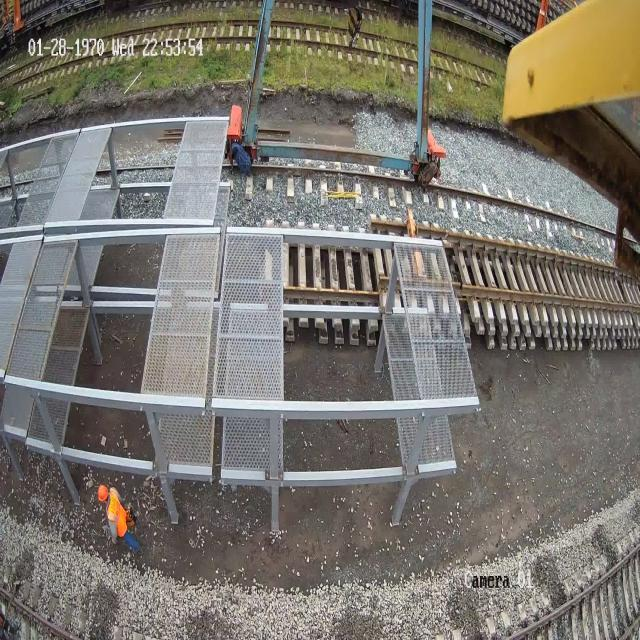Helmet: (95, 482, 114, 506), (97, 484, 108, 501)
Person: (98, 484, 140, 554)
